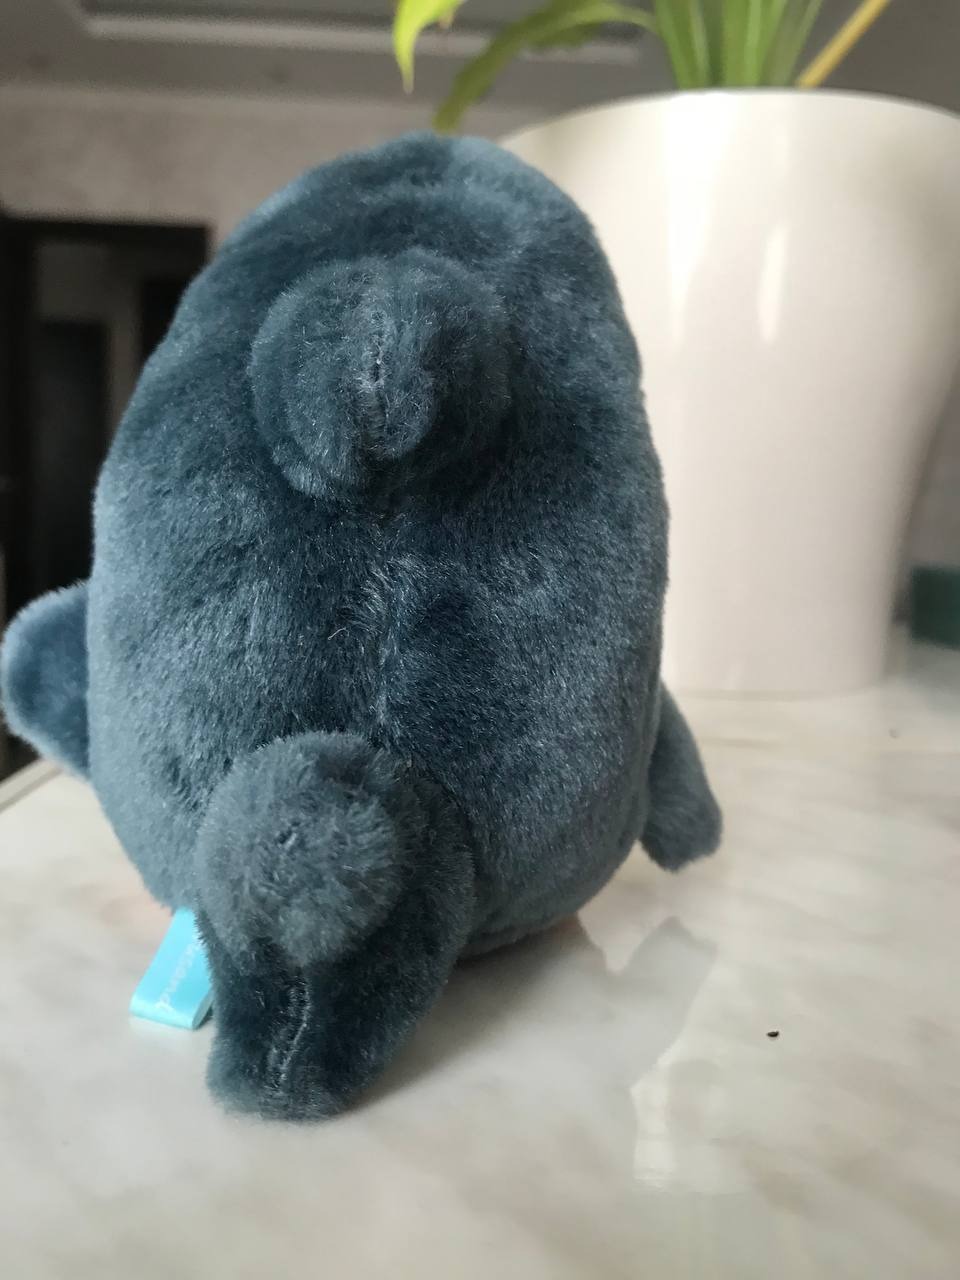cat_shark: (0, 124, 725, 1129)
